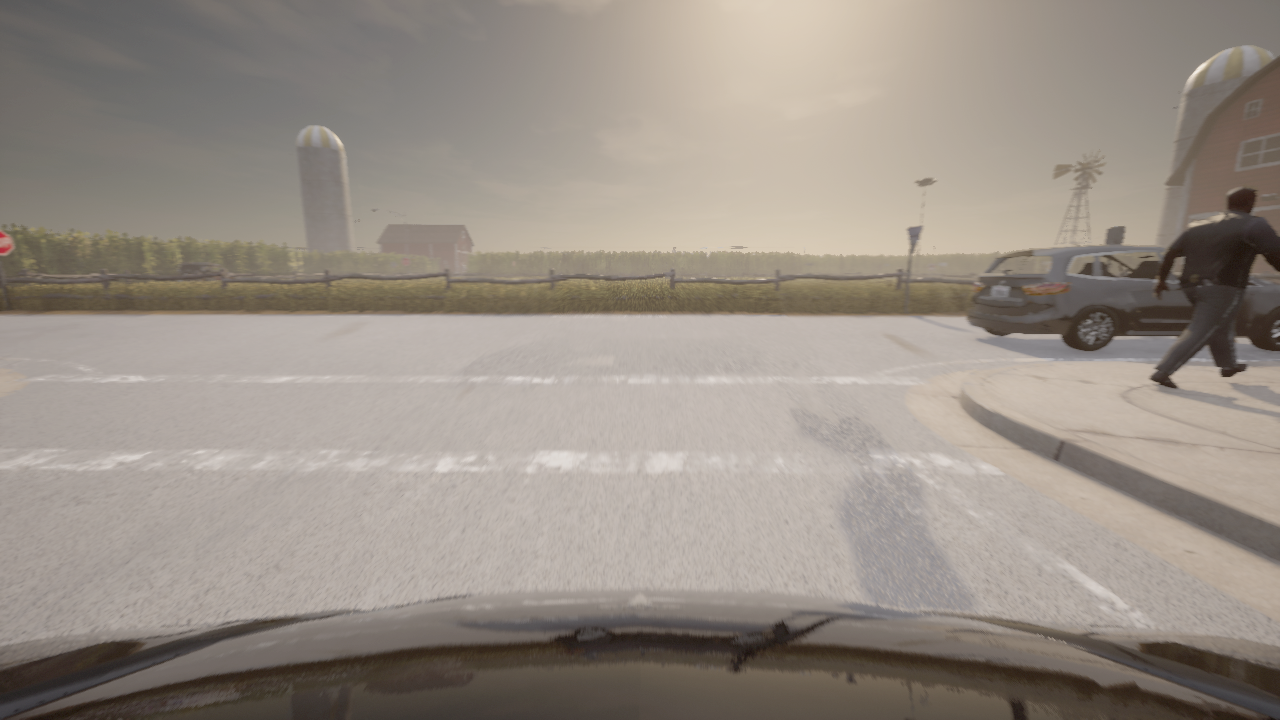cyclist: (0, 588, 1279, 719), (967, 245, 1279, 351), (179, 263, 242, 281)
pedestrian: (1148, 184, 1279, 389)
